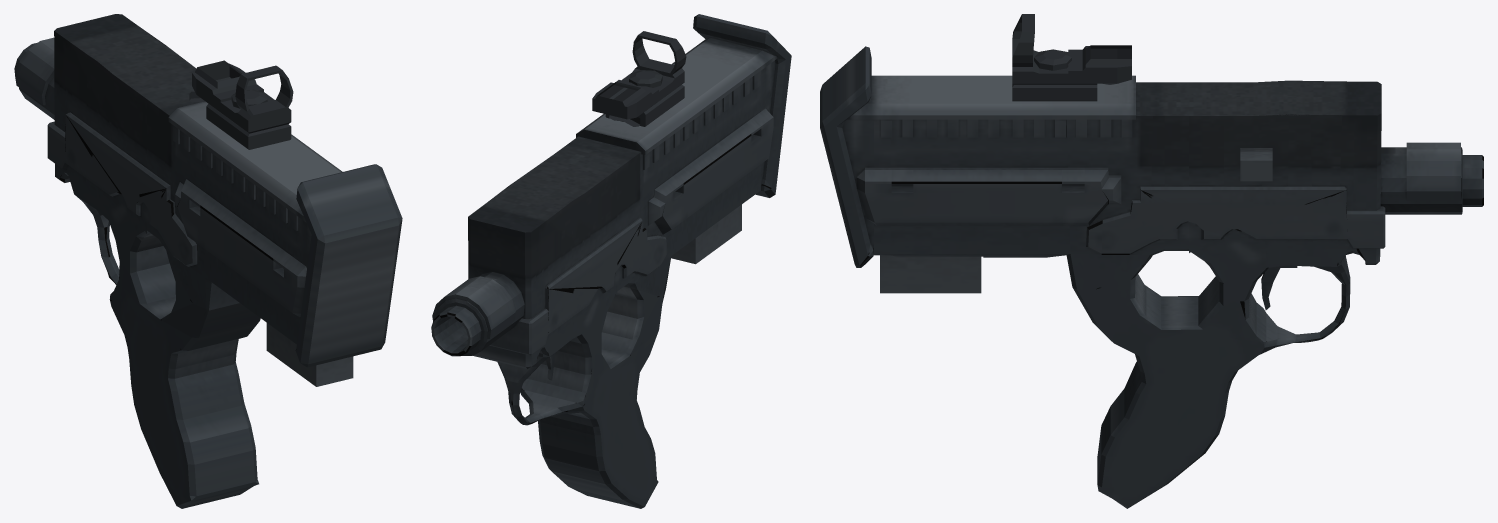
The model's file is smg.glb.
3 views of the same model, side by side, from view 1: azimuth 30°, elevation 25°; view 2: azimuth 150°, elevation 25°; view 3: azimuth 270°, elevation 25° (orthographic). The views are drawn at different scales.
Visible parts, largest first — view 1: smg, InsertedAmmo; view 2: smg, InsertedAmmo; view 3: smg, InsertedAmmo, ChargingHandle.
Boxes of the visible parts, <box> form: smg: <box>14,14,402,508</box>; InsertedAmmo: <box>266,323,353,386</box>; smg: <box>431,14,791,508</box>; InsertedAmmo: <box>671,204,741,264</box>; smg: <box>820,14,1483,508</box>; InsertedAmmo: <box>880,255,981,293</box>; ChargingHandle: <box>1240,148,1272,181</box>.
Bounding box in the file's own units: 0.0909 × 0.396 × 0.504.
Materials: 1 (1 with a texture image).
